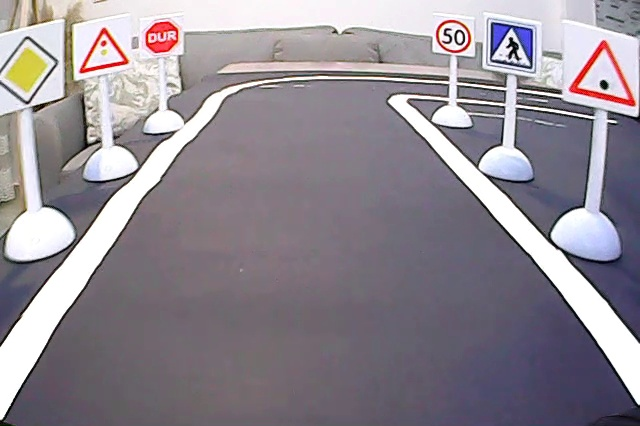green light: (572, 25, 638, 112)
pedestrian crossing: (485, 13, 539, 73)
red light: (72, 22, 134, 74)
speed limit 50: (431, 16, 472, 56)
stop sign: (142, 18, 187, 58)
